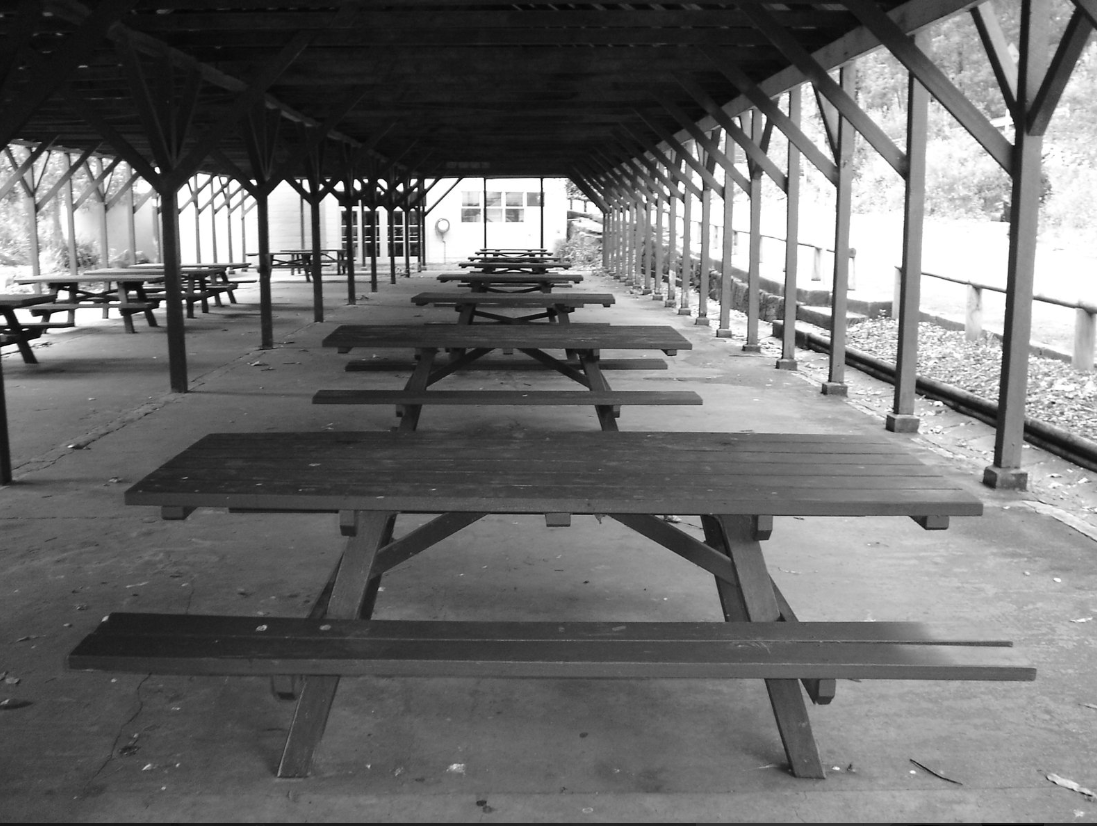obstacle: (63, 426, 1040, 773), (311, 318, 704, 419), (19, 271, 170, 338), (403, 289, 621, 322)
